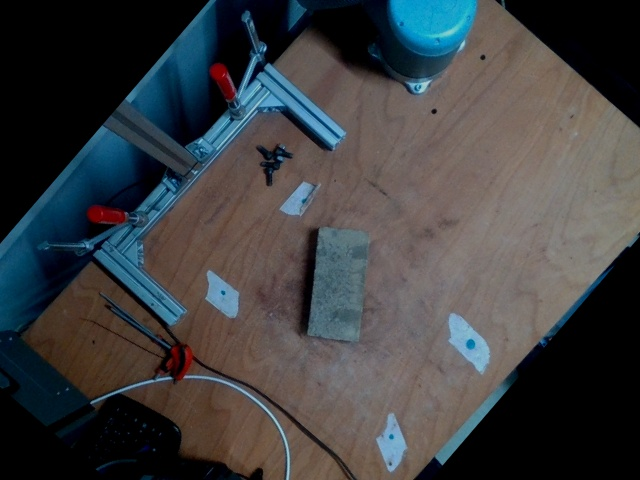brick: (310, 229, 368, 339)
